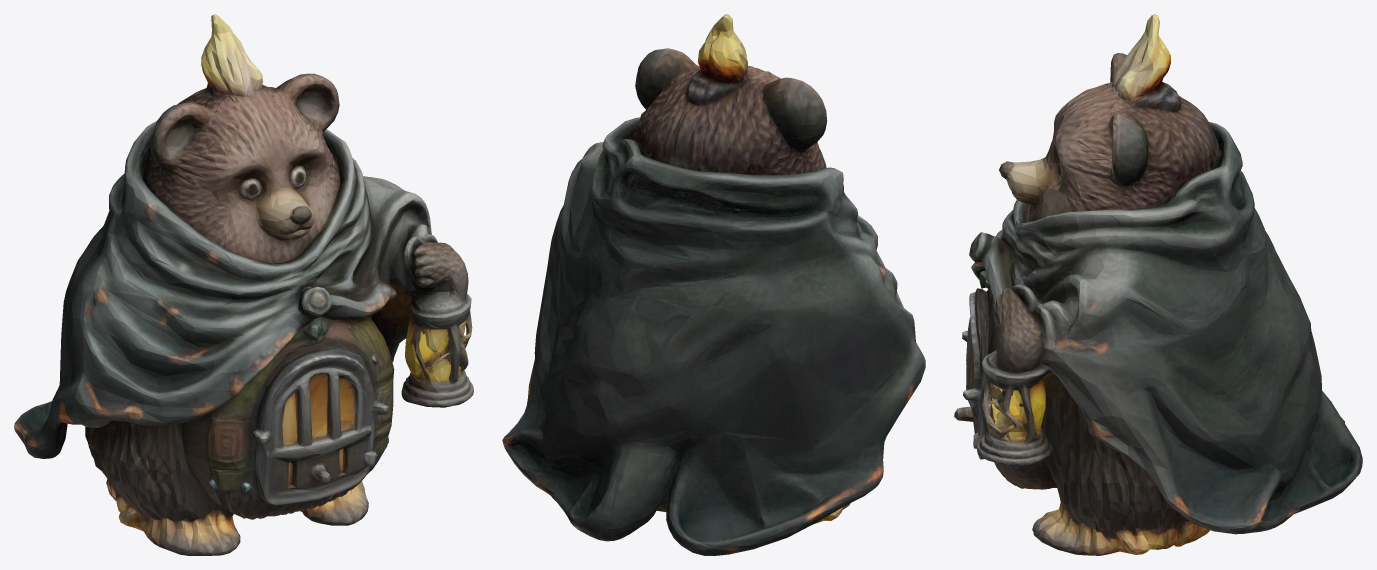
The model's file is hearthkin__cinderSprite.glb.
3 renders of one model, left to right at view 1: azimuth 30°, elevation 25°; view 2: azimuth 150°, elevation 25°; view 3: azimuth 270°, elevation 25°, orthographic.
Parts seen in each view (by area): view 1: world; view 2: world; view 3: world.
Boxes of the visible parts, box(x1,y1,x2,y2) form: world: box(14, 14, 473, 555); world: box(502, 14, 925, 555); world: box(954, 14, 1362, 555).
Bounding box in the file's own units: 0.7674 × 0.999 × 0.7596.
Materials: 1 (1 with a texture image).
